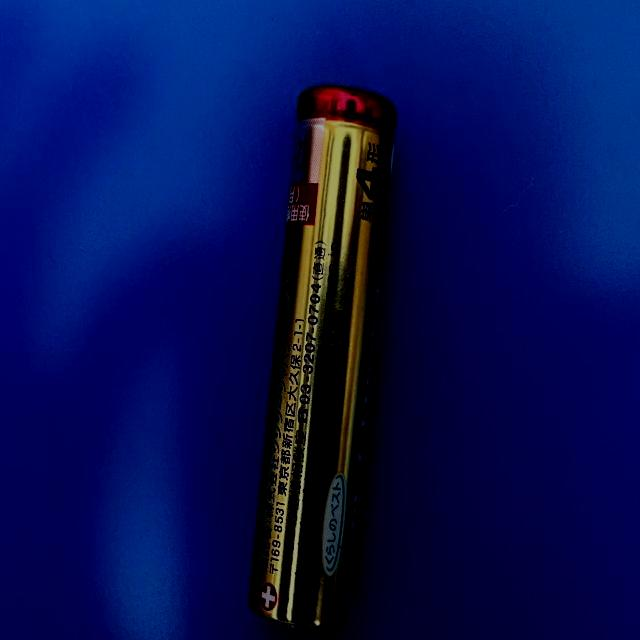AAA: (246, 81, 401, 633)
